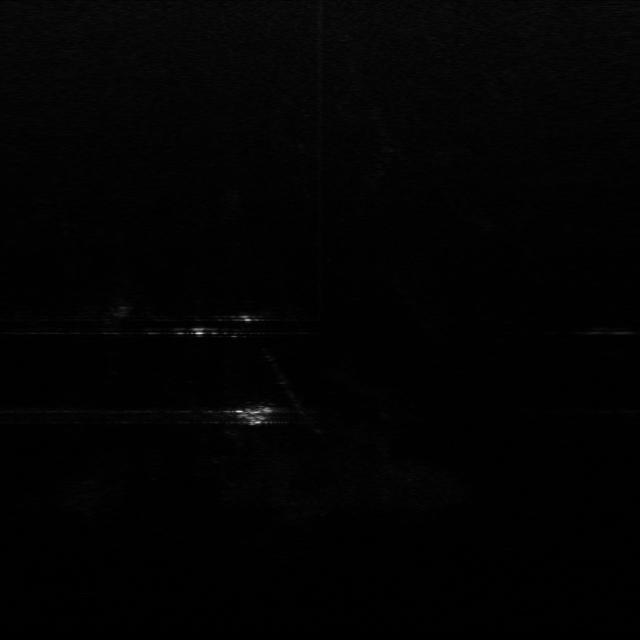rov: (233, 404, 277, 428)
